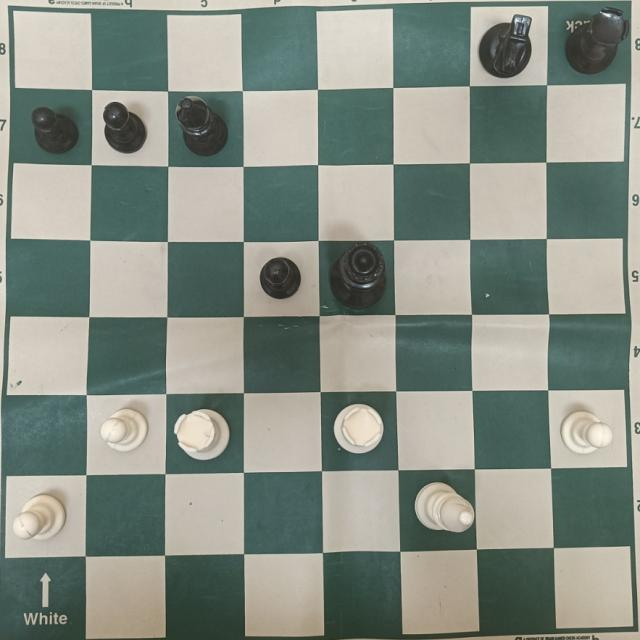black-bishop: (176, 97, 230, 156)
black-knight: (480, 12, 532, 78)
black-pawn: (104, 102, 148, 151), (32, 109, 78, 155), (260, 258, 302, 297)
black-queen: (332, 240, 385, 309)
black-rook: (567, 9, 627, 73)
white-bishop: (412, 479, 476, 536)
white-pawn: (13, 494, 67, 541), (101, 405, 150, 452), (561, 409, 612, 453)
white-rook: (174, 410, 232, 459), (333, 404, 386, 456)
